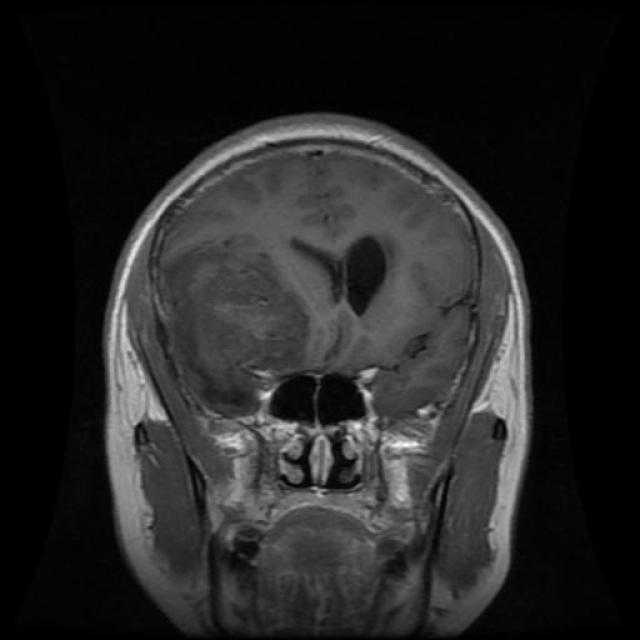glioma: (288, 221, 397, 320)
